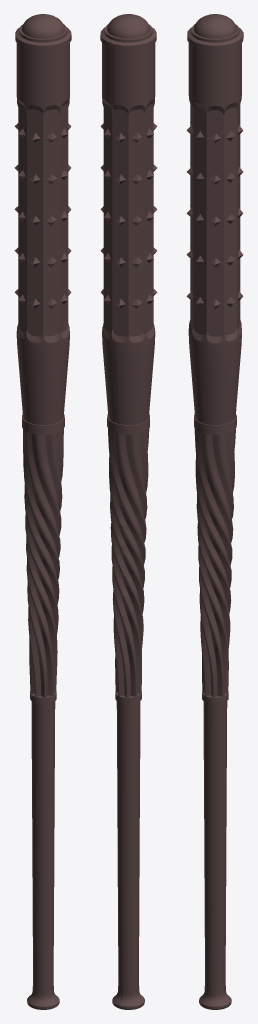
The model's file is kanabo.fbx.
3 renders of one model, left to right at view 1: azimuth 30°, elevation 25°; view 2: azimuth 150°, elevation 25°; view 3: azimuth 330°, elevation 25°, orthographic.
Visible parts, largest first — view 1: g MAIN pCylinder18, g MAIN pCylinder30, g MAIN pCylinder21, g MAIN pSphere1, g MAIN pCylinder22, g MAIN pCylinder24, g MAIN pCylinder40, g MAIN pCylinder38, g MAIN pCylinder34, g MAIN pCylinder39, g MAIN pCylinder37, g pCylinder23 MAIN; view 2: g MAIN pCylinder18, g MAIN pCylinder30, g MAIN pCylinder21, g MAIN pSphere1, g MAIN pCylinder22, g MAIN pCylinder24, g MAIN pCylinder39, g MAIN pCylinder37, g MAIN pCylinder34, g MAIN pCylinder40, g MAIN pCylinder38, g pCylinder23 MAIN; view 3: g MAIN pCylinder18, g MAIN pCylinder30, g MAIN pCylinder21, g MAIN pSphere1, g MAIN pCylinder22, g MAIN pCylinder24, g MAIN pCylinder34, g MAIN pCylinder39, g MAIN pCylinder37, g MAIN pCylinder40, g MAIN pCylinder38, g pCylinder23 MAIN.
Part boxes in pixels (left/top/right/bottom): g MAIN pCylinder18: left=16, top=43, right=69, bottom=424; g MAIN pCylinder30: left=22, top=428, right=63, bottom=697; g MAIN pCylinder21: left=31, top=701, right=55, bottom=991; g MAIN pSphere1: left=15, top=14, right=71, bottom=50; g MAIN pCylinder22: left=27, top=986, right=59, bottom=1009; g MAIN pCylinder24: left=22, top=414, right=64, bottom=434; g MAIN pCylinder40: left=14, top=289, right=71, bottom=308; g MAIN pCylinder38: left=14, top=206, right=71, bottom=225; g MAIN pCylinder34: left=14, top=123, right=71, bottom=142; g MAIN pCylinder39: left=14, top=247, right=71, bottom=267; g MAIN pCylinder37: left=14, top=165, right=71, bottom=184; g pCylinder23 MAIN: left=30, top=691, right=56, bottom=703; g MAIN pCylinder18: left=102, top=43, right=155, bottom=424; g MAIN pCylinder30: left=108, top=428, right=149, bottom=697; g MAIN pCylinder21: left=116, top=701, right=140, bottom=991; g MAIN pSphere1: left=100, top=14, right=156, bottom=50; g MAIN pCylinder22: left=112, top=986, right=144, bottom=1009; g MAIN pCylinder24: left=107, top=414, right=149, bottom=434; g MAIN pCylinder39: left=100, top=247, right=157, bottom=267; g MAIN pCylinder37: left=100, top=164, right=157, bottom=184; g MAIN pCylinder34: left=100, top=123, right=157, bottom=142; g MAIN pCylinder40: left=100, top=289, right=157, bottom=308; g MAIN pCylinder38: left=100, top=206, right=157, bottom=225; g pCylinder23 MAIN: left=115, top=691, right=141, bottom=703; g MAIN pCylinder18: left=188, top=43, right=241, bottom=424; g MAIN pCylinder30: left=194, top=428, right=235, bottom=697; g MAIN pCylinder21: left=203, top=701, right=227, bottom=991; g MAIN pSphere1: left=187, top=14, right=243, bottom=50; g MAIN pCylinder22: left=199, top=986, right=231, bottom=1009; g MAIN pCylinder24: left=194, top=414, right=236, bottom=434; g MAIN pCylinder34: left=186, top=122, right=243, bottom=143; g MAIN pCylinder39: left=186, top=246, right=243, bottom=267; g MAIN pCylinder37: left=187, top=163, right=243, bottom=184; g MAIN pCylinder40: left=186, top=291, right=243, bottom=309; g MAIN pCylinder38: left=186, top=205, right=243, bottom=226; g pCylinder23 MAIN: left=202, top=691, right=228, bottom=703.
Size of the model in its own units: 0.106 by 2 by 0.1048.
